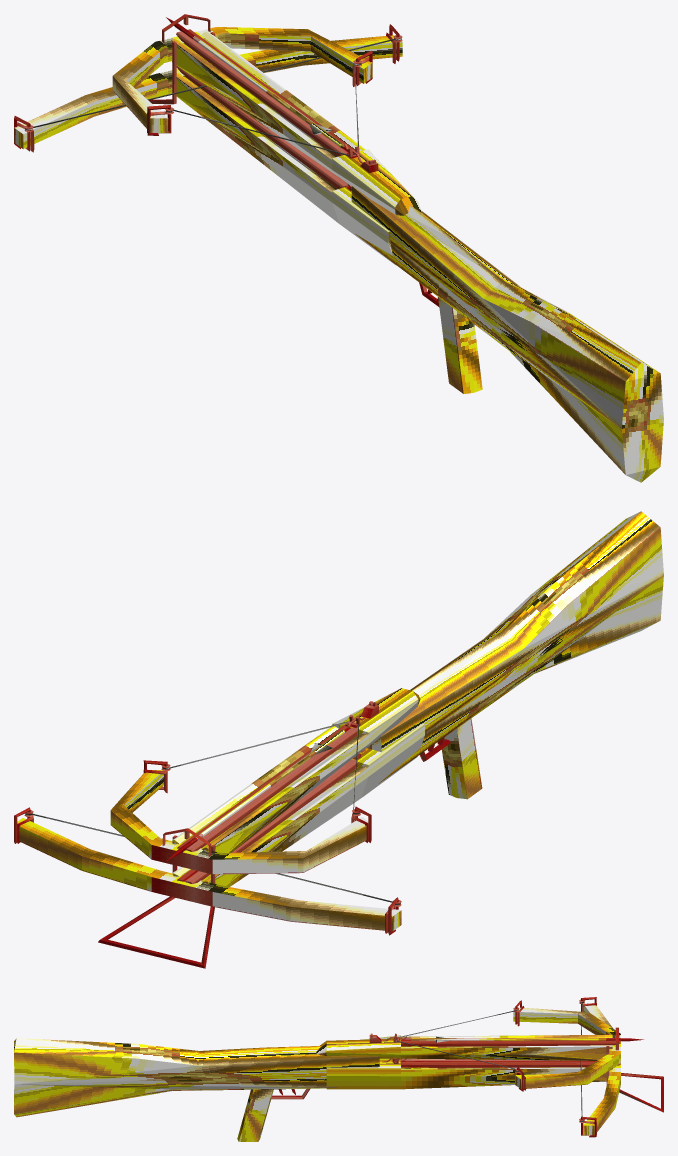
File: double_crossbow_arming_upper_1.obj
The picture shows the model from 3 angles, top to bottom: view 1: azimuth 30°, elevation 25°; view 2: azimuth 150°, elevation 25°; view 3: azimuth 270°, elevation 25°; orthographic projection. The views are drawn at different scales.
Parts seen in each view (by area): view 1: Torus.009_Torus.008, Torus.000, Torus.001_Torus.007, Torus.002_Torus.009; view 2: Torus.009_Torus.008, Torus.001_Torus.007, Torus.000, Torus.002_Torus.009; view 3: Torus.009_Torus.008, Torus.000, Torus.001_Torus.007, Torus.002_Torus.009.
Part boxes in pixels (x1,y1,x2,y2): Torus.009_Torus.008: [344, 144, 663, 482]; Torus.000: [149, 14, 422, 264]; Torus.001_Torus.007: [14, 24, 402, 155]; Torus.002_Torus.009: [166, 17, 344, 148]; Torus.009_Torus.008: [345, 511, 663, 799]; Torus.001_Torus.007: [14, 721, 401, 935]; Torus.000: [98, 688, 424, 968]; Torus.002_Torus.009: [167, 729, 344, 860]; Torus.009_Torus.008: [14, 1033, 406, 1141]; Torus.000: [316, 1027, 663, 1112]; Torus.001_Torus.007: [396, 997, 620, 1137]; Torus.002_Torus.009: [411, 1036, 643, 1042].
Size of the model in its own units: 3.45 by 1.45 by 7.77.
